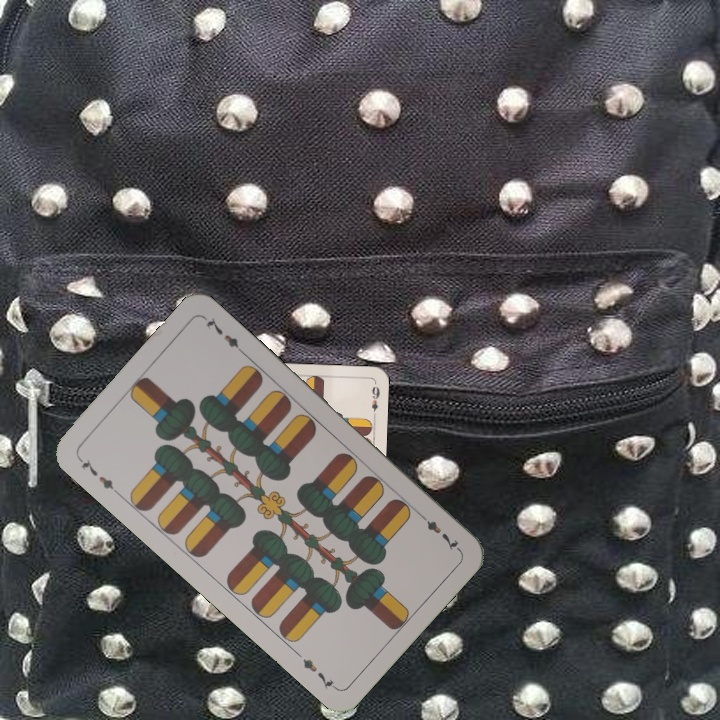E7: (74, 453, 122, 498), (414, 509, 462, 553)
